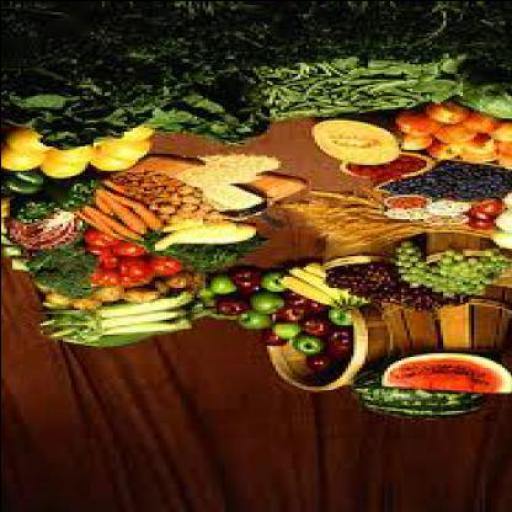biodegradable: (1, 0, 241, 75), (248, 59, 450, 119), (1, 66, 145, 149), (140, 72, 266, 143), (238, 2, 356, 74), (347, 362, 475, 420), (272, 194, 400, 252), (347, 2, 459, 67), (322, 266, 464, 315), (375, 352, 509, 395), (134, 234, 257, 274), (307, 115, 403, 166), (118, 169, 201, 226), (36, 295, 193, 322), (2, 208, 84, 256), (8, 250, 94, 294), (420, 257, 503, 302), (33, 309, 185, 333), (39, 316, 187, 338), (462, 2, 509, 68), (98, 184, 162, 231), (456, 78, 509, 121), (170, 164, 252, 190), (445, 170, 509, 203), (151, 224, 232, 250), (174, 222, 252, 248), (42, 174, 98, 210), (36, 335, 151, 352), (92, 195, 143, 233), (392, 164, 456, 193), (76, 218, 146, 244), (274, 276, 328, 309), (302, 264, 344, 306), (286, 268, 336, 302), (84, 208, 134, 242), (388, 242, 423, 288), (196, 186, 257, 212), (347, 158, 417, 180), (392, 222, 484, 238), (196, 156, 274, 174), (1, 165, 42, 196), (389, 113, 439, 138), (90, 142, 148, 162), (106, 125, 157, 147), (8, 196, 50, 222), (37, 158, 84, 180), (2, 128, 37, 156), (420, 103, 464, 125), (224, 266, 255, 296), (45, 144, 87, 166), (109, 263, 148, 285), (87, 154, 131, 173), (145, 256, 180, 278), (86, 246, 118, 270), (246, 294, 280, 316), (461, 132, 495, 154), (432, 128, 478, 144), (2, 149, 34, 172), (212, 299, 250, 318), (112, 240, 151, 258), (265, 321, 302, 339), (422, 142, 459, 160), (120, 288, 157, 306), (456, 115, 495, 132), (292, 335, 318, 359), (458, 150, 496, 166), (299, 300, 334, 317), (205, 278, 232, 300), (299, 318, 330, 337), (487, 120, 509, 146), (88, 270, 114, 292), (36, 294, 74, 309), (235, 314, 266, 332), (398, 136, 428, 154), (255, 272, 279, 294), (494, 138, 510, 170), (425, 205, 467, 217), (280, 292, 305, 311), (490, 212, 509, 237), (487, 231, 509, 251), (320, 344, 346, 360), (473, 203, 507, 215), (163, 275, 187, 292), (325, 330, 347, 348), (386, 197, 416, 210), (178, 309, 213, 320), (261, 334, 288, 348), (67, 298, 100, 309), (327, 309, 347, 327), (306, 358, 328, 374), (383, 212, 417, 222), (434, 250, 461, 262), (278, 309, 302, 322), (92, 289, 114, 302), (462, 212, 489, 222), (462, 223, 487, 231), (498, 197, 509, 210)
